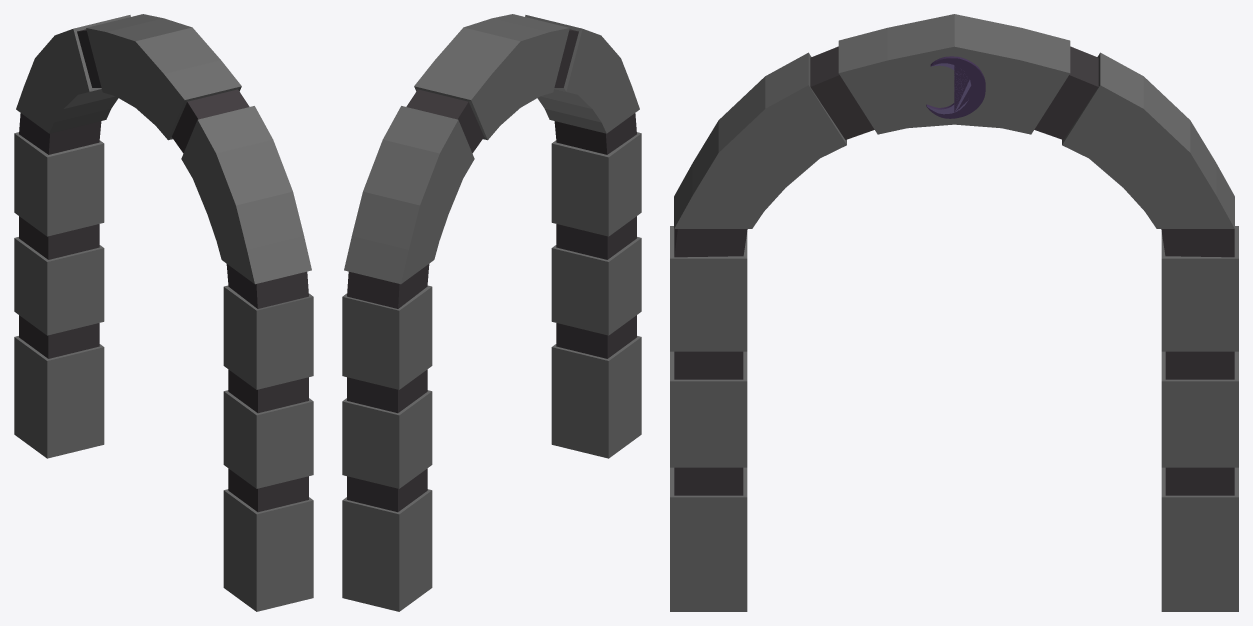
The model's file is MoonDoorFrame.fbx.
The picture shows the model from 3 angles, left to right: view 1: azimuth 30°, elevation 25°; view 2: azimuth 150°, elevation 25°; view 3: azimuth 270°, elevation 25°; orthographic projection. The views are drawn at different scales.
Parts seen in each view (by area): view 1: moonframe; view 2: moonframe; view 3: moonframe.
Boxes of the visible parts, x1,y1,x2,y2 form: moonframe: (14, 14, 313, 611); moonframe: (342, 14, 641, 611); moonframe: (670, 14, 1238, 611).
Size of the model in its own units: 0.9907 by 7.56 by 6.89.
